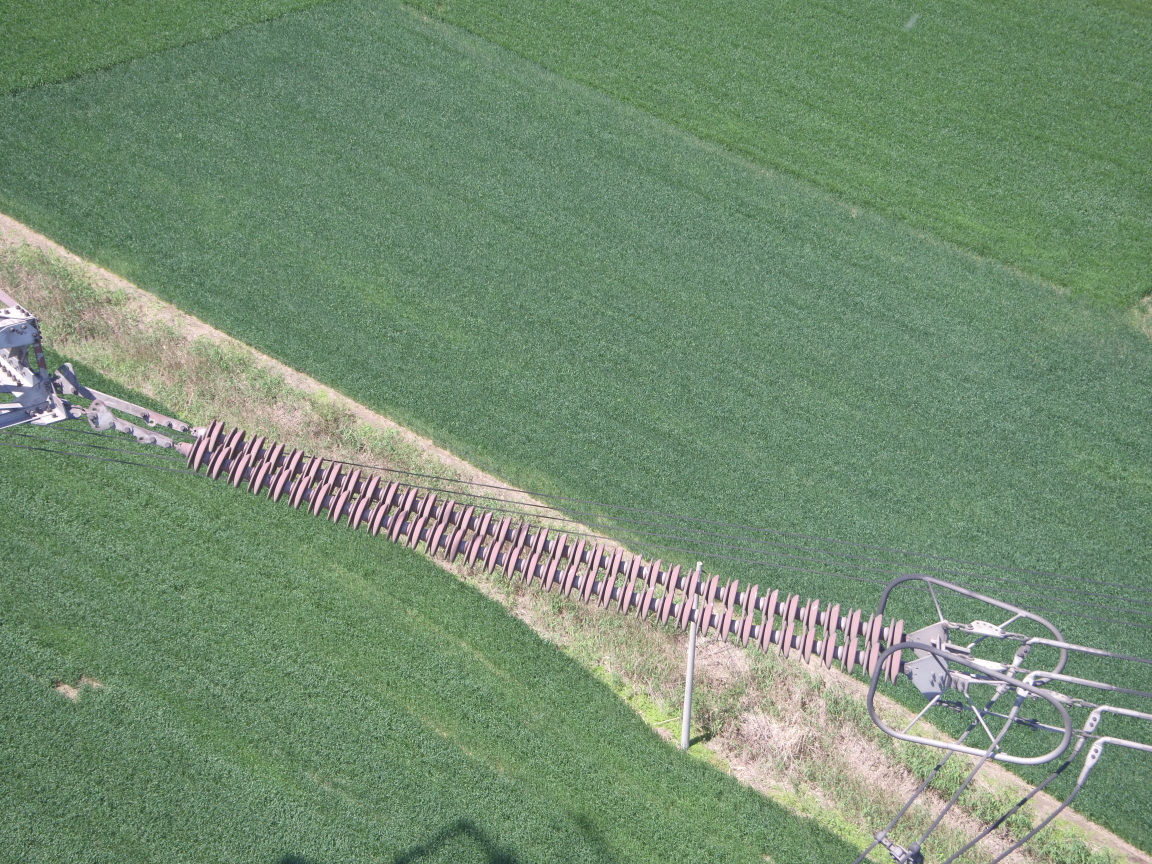insulator: (139, 410, 922, 687)
